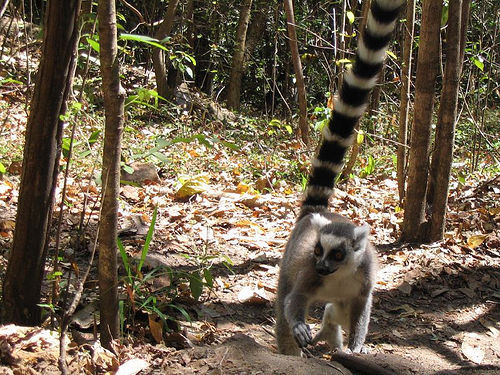cat: (272, 0, 408, 359)
